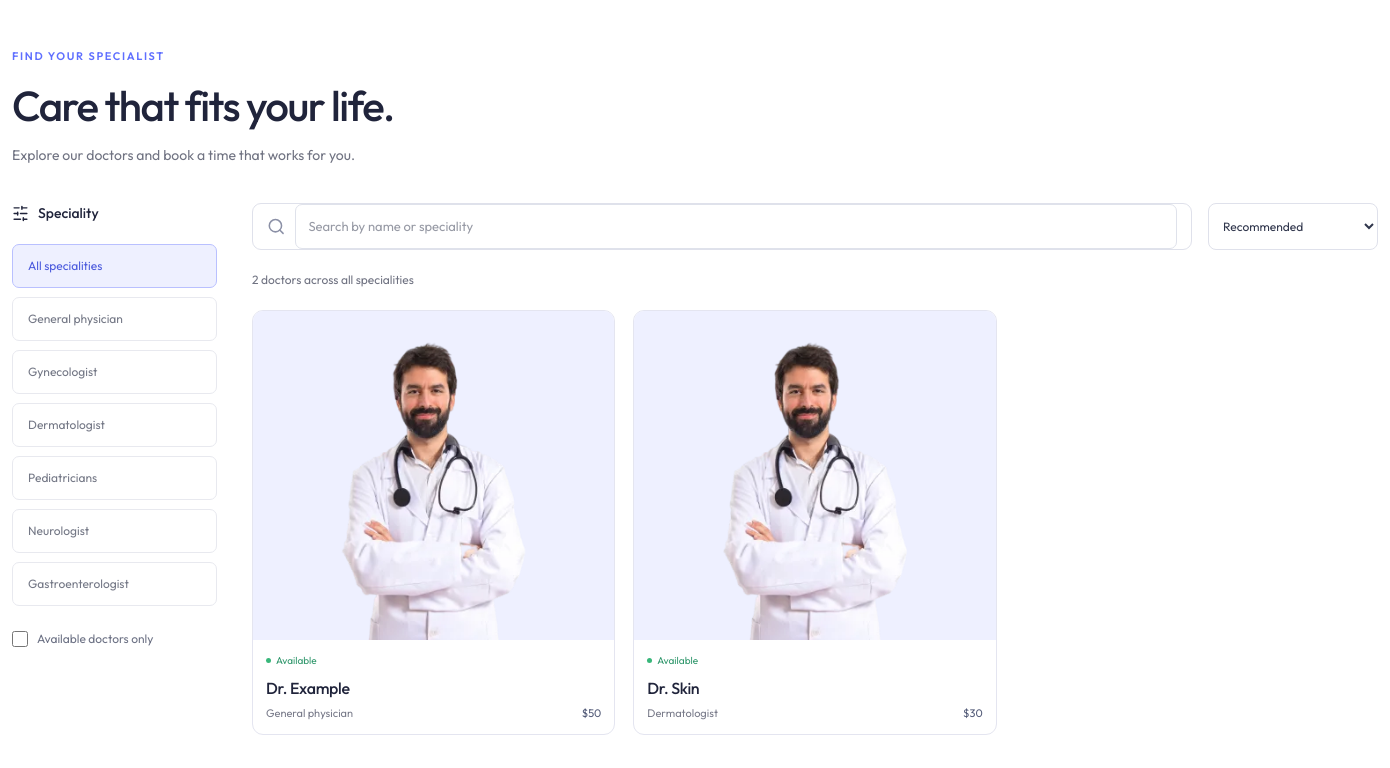
Scenario: doctor discovery components › shows an actionable empty state for unmatched searches
Type "does-not-exist" into the field named "Search doctors" at (736, 226), box [295,204,1177,249]
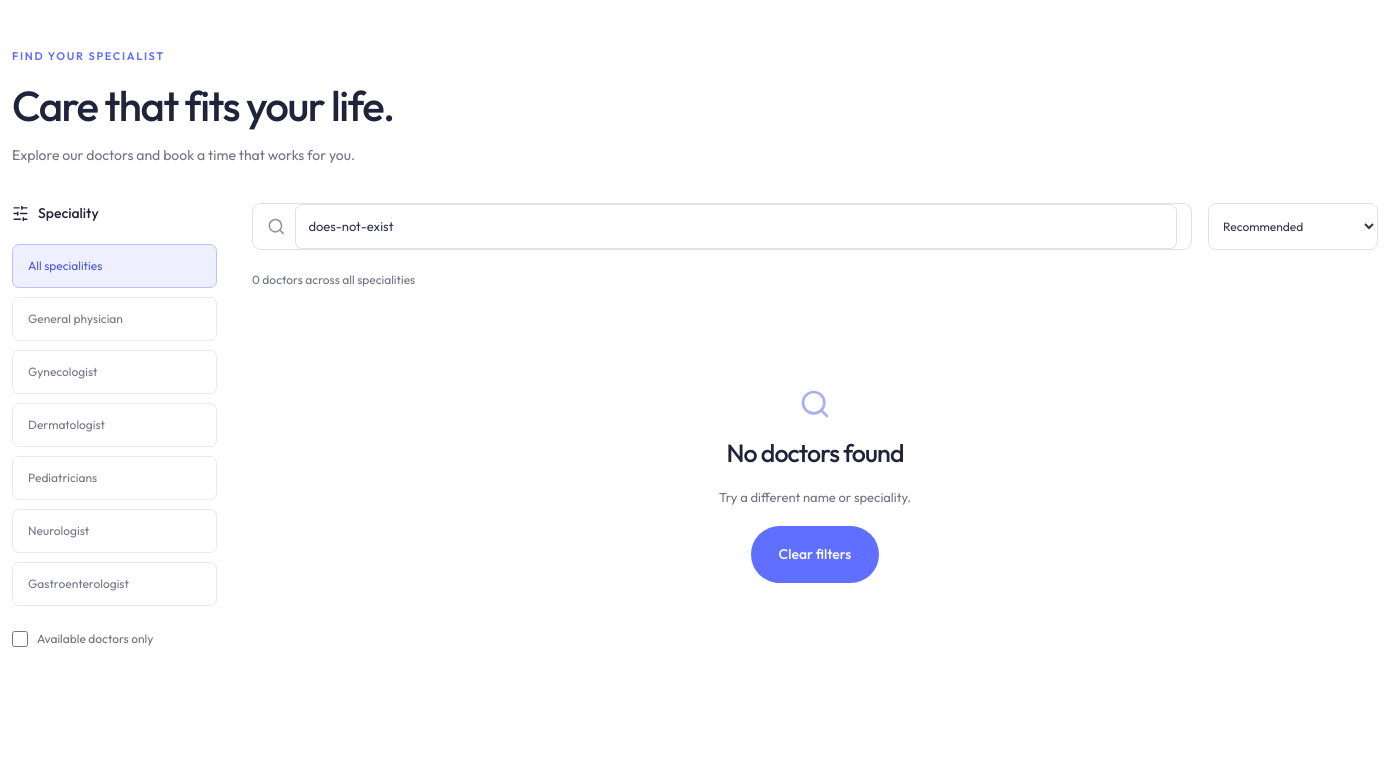
Expected: the heading "No doctors found" is shown, [726,438,904,468]
Click the button "Clear filters" at (815, 554), box [751,526,879,583]
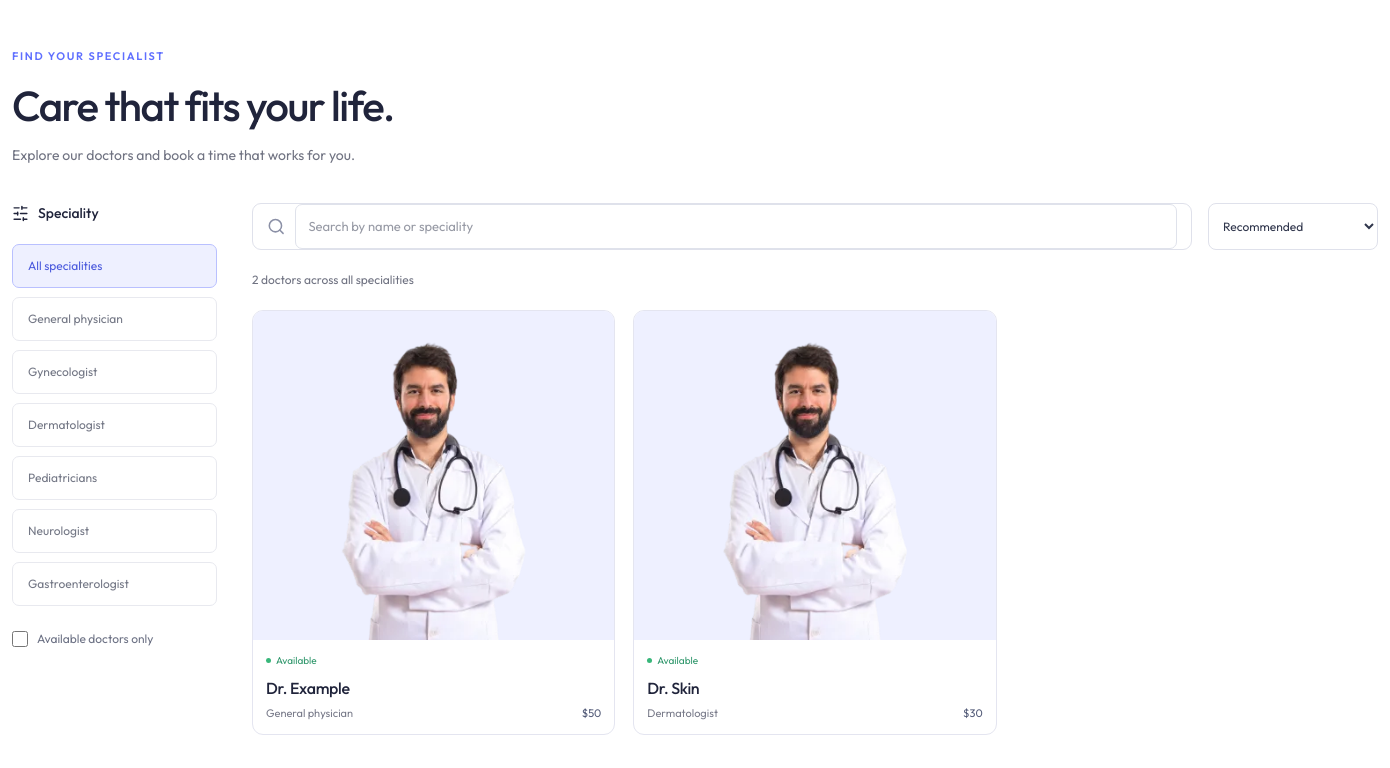
Expected: the heading "Dr. Example" is shown, [266,678,350,698]
